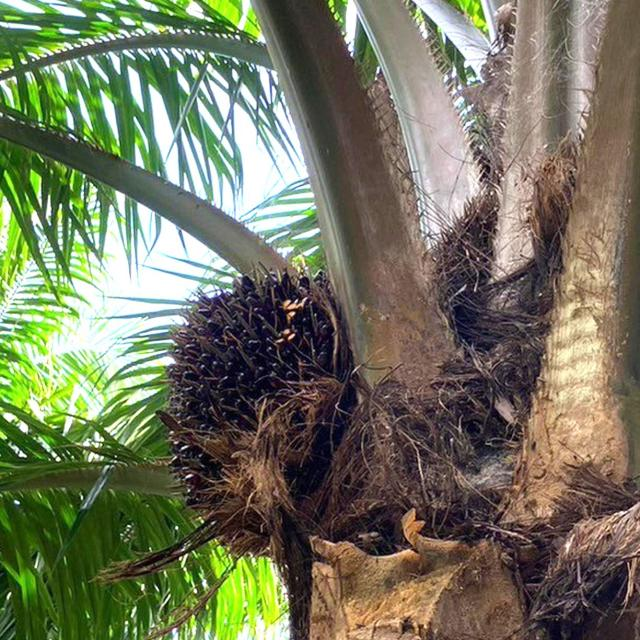almost: (153, 262, 361, 542)
